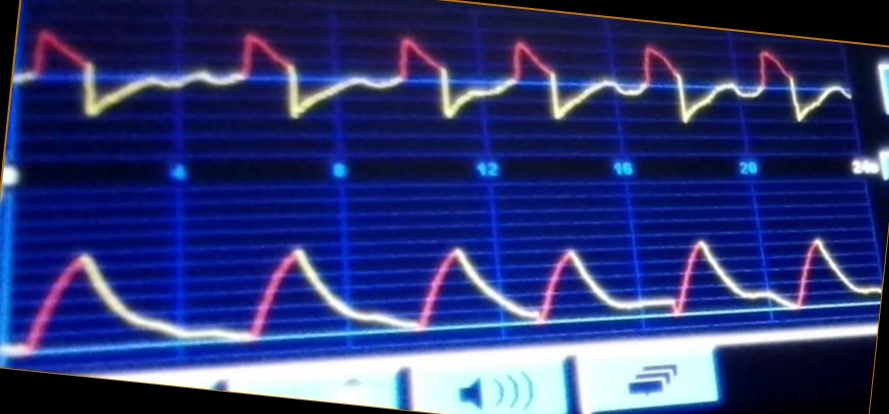Ineffective_effort Flow: (19, 26, 849, 133)
Ineffective_effort Volume: (14, 231, 875, 343)
